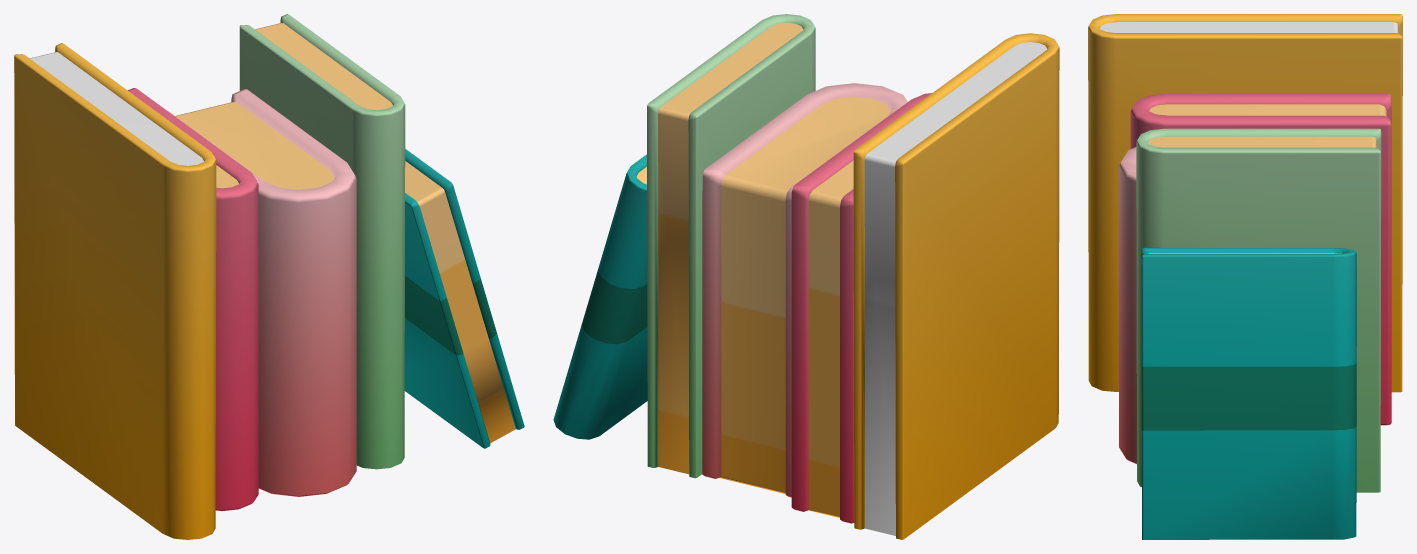
The model's file is Books_01.fbx.
3 views of the same model, side by side, from view 1: azimuth 30°, elevation 25°; view 2: azimuth 150°, elevation 25°; view 3: azimuth 270°, elevation 25° (orthographic). The views are drawn at different scales.
Visible parts, largest first — view 1: Books_01; view 2: Books_01; view 3: Books_01.
Boxes of the visible parts, x1,y1,x2,y2 form: Books_01: (14,14,524,539); Books_01: (553,14,1059,539); Books_01: (1088,14,1402,539).
Size of the model in its own units: 33.74 by 32.27 by 25.43.
